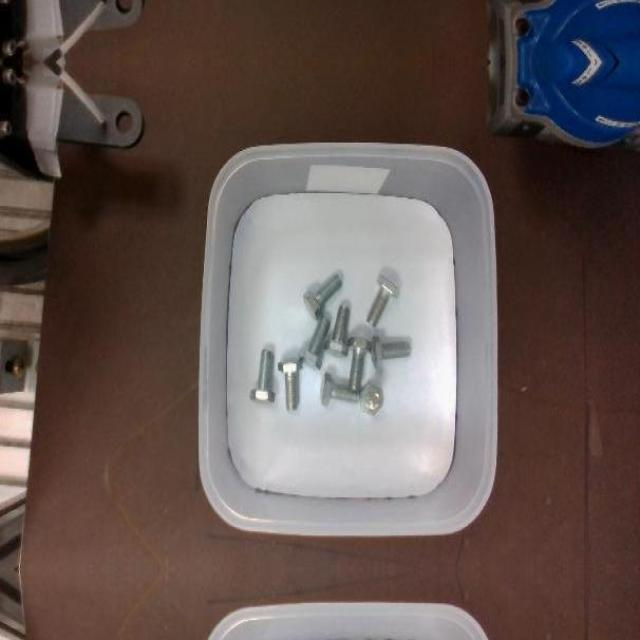screw: (366, 274, 401, 327), (303, 275, 341, 321), (298, 316, 329, 369), (324, 303, 350, 357), (321, 372, 360, 407), (370, 336, 410, 370), (250, 349, 275, 403), (346, 336, 369, 392), (279, 358, 303, 411), (359, 381, 382, 415)
